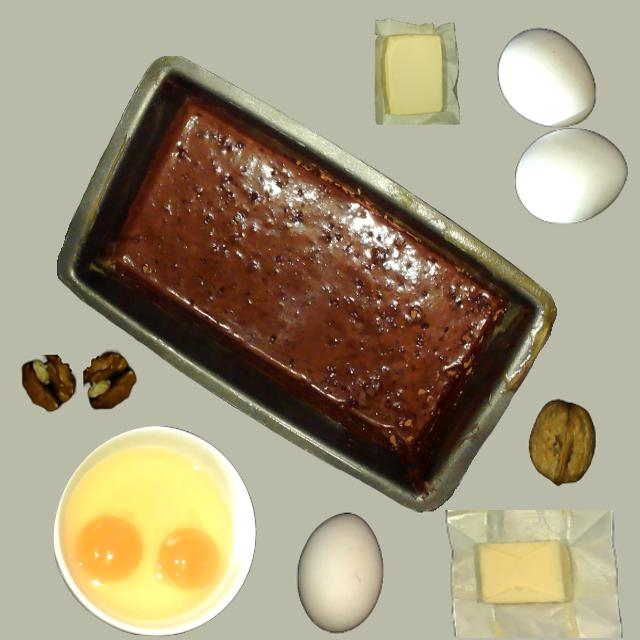Egg: (76, 516, 143, 582), (157, 527, 219, 590)
